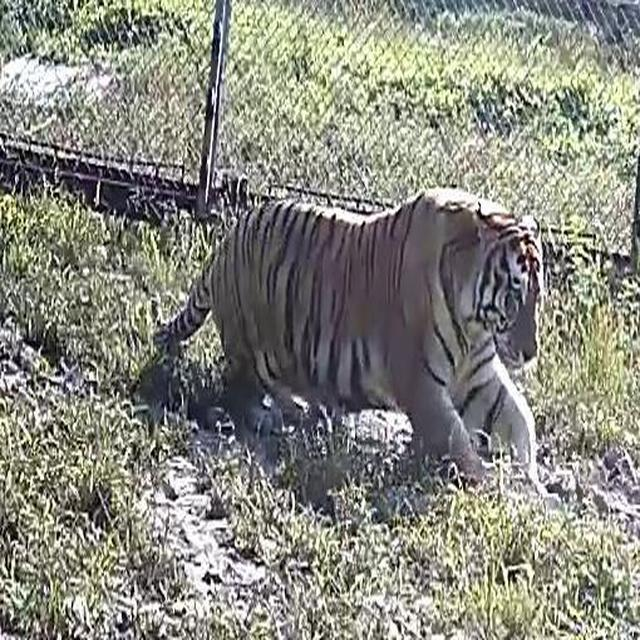tiger: (151, 181, 560, 503)
